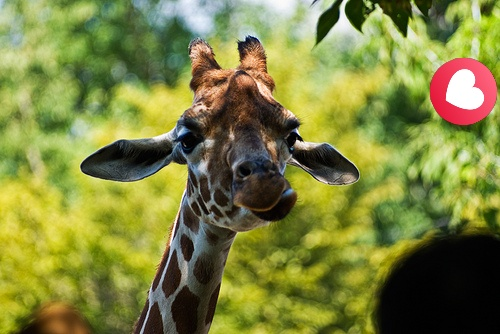love: (430, 58, 497, 125)
